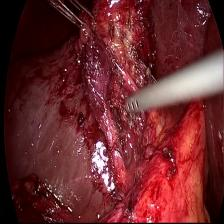Grasper: (51, 0, 97, 34)
Irrigator: (122, 85, 155, 118)
